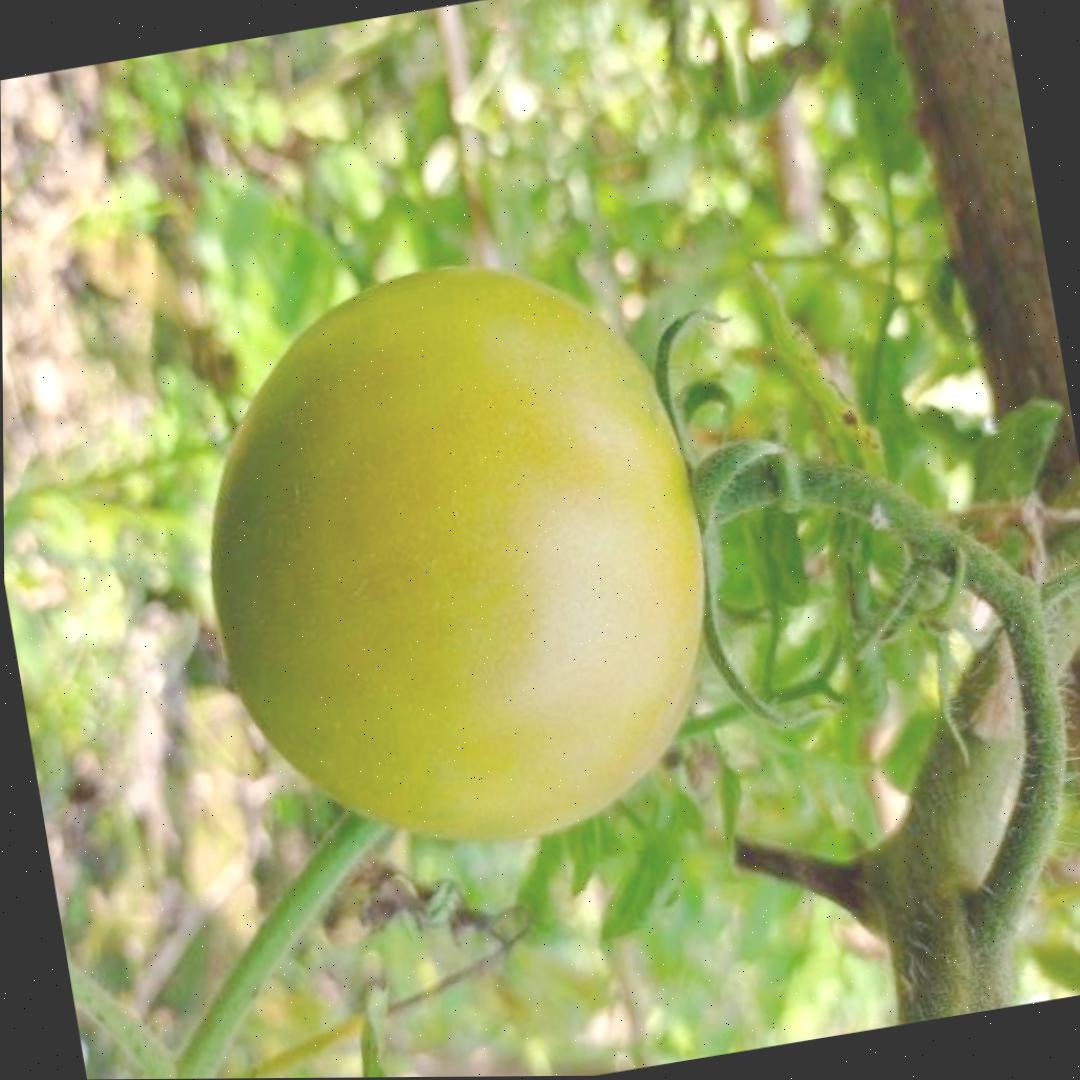setengah_matang: (163, 221, 763, 886)
